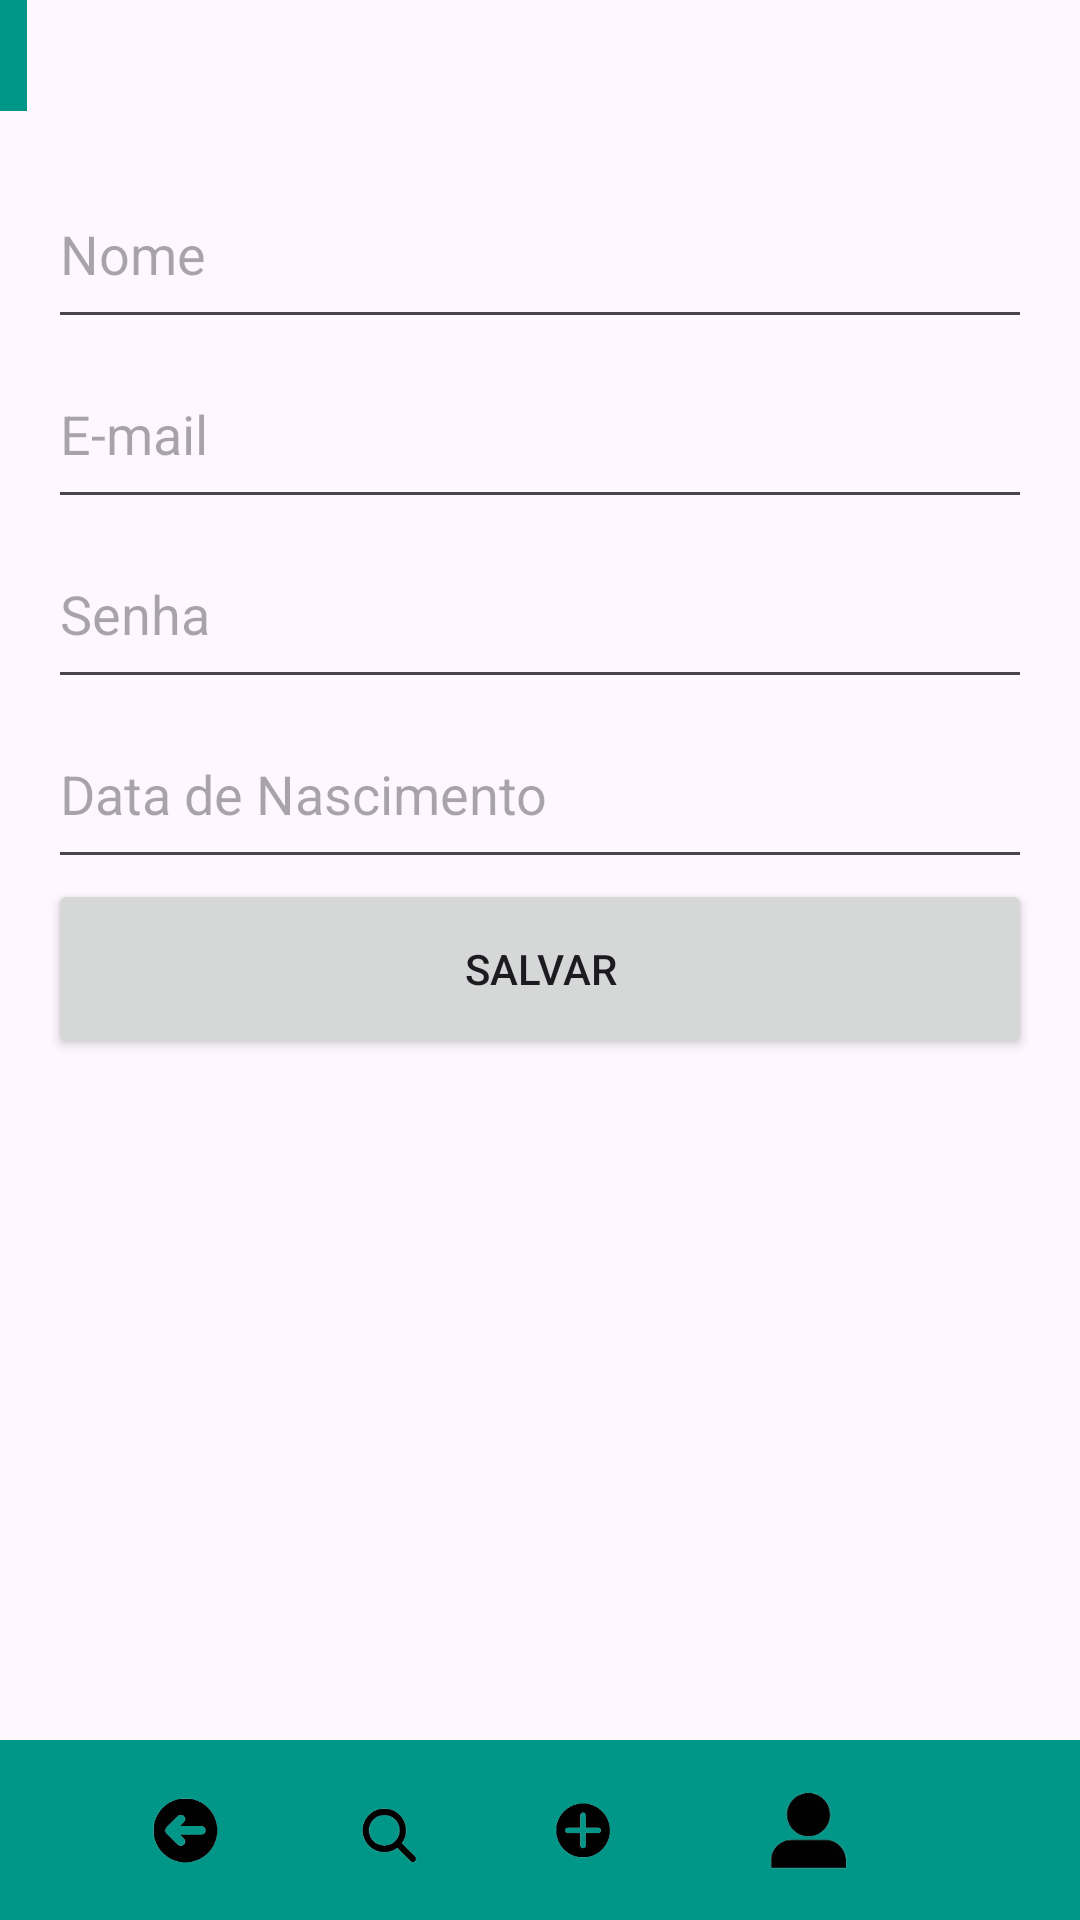

Screen size 1080 x 1920. Icon name, then its center in pixels as [x,y]:
Adicionar: [583,1830]
Perfil: [808,1831]
Pesquisar: [389,1835]
Voltar: [185,1830]
